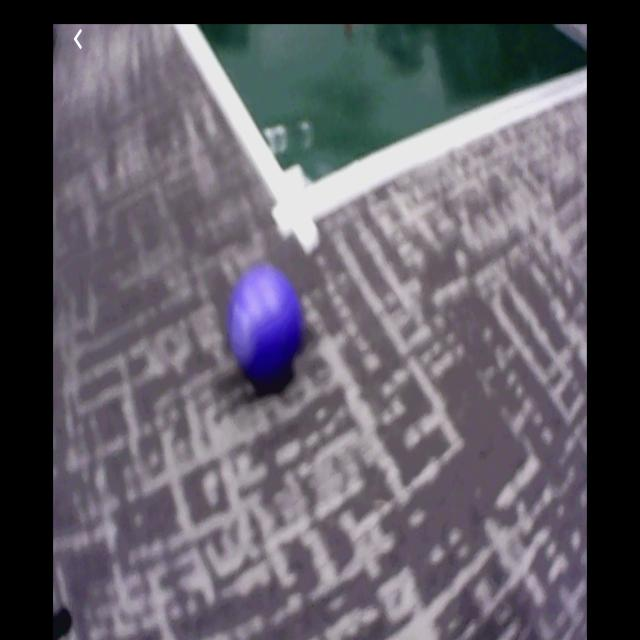ball: (231, 269, 301, 382)
